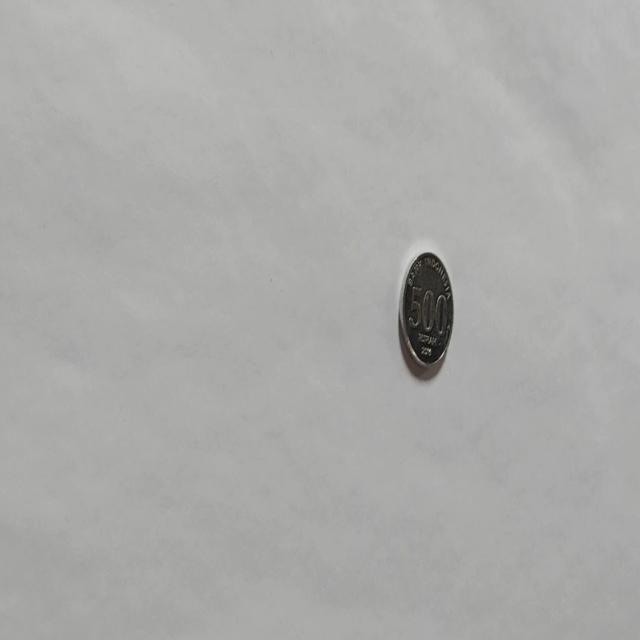lima ratus rupiah: (398, 250, 454, 370)
